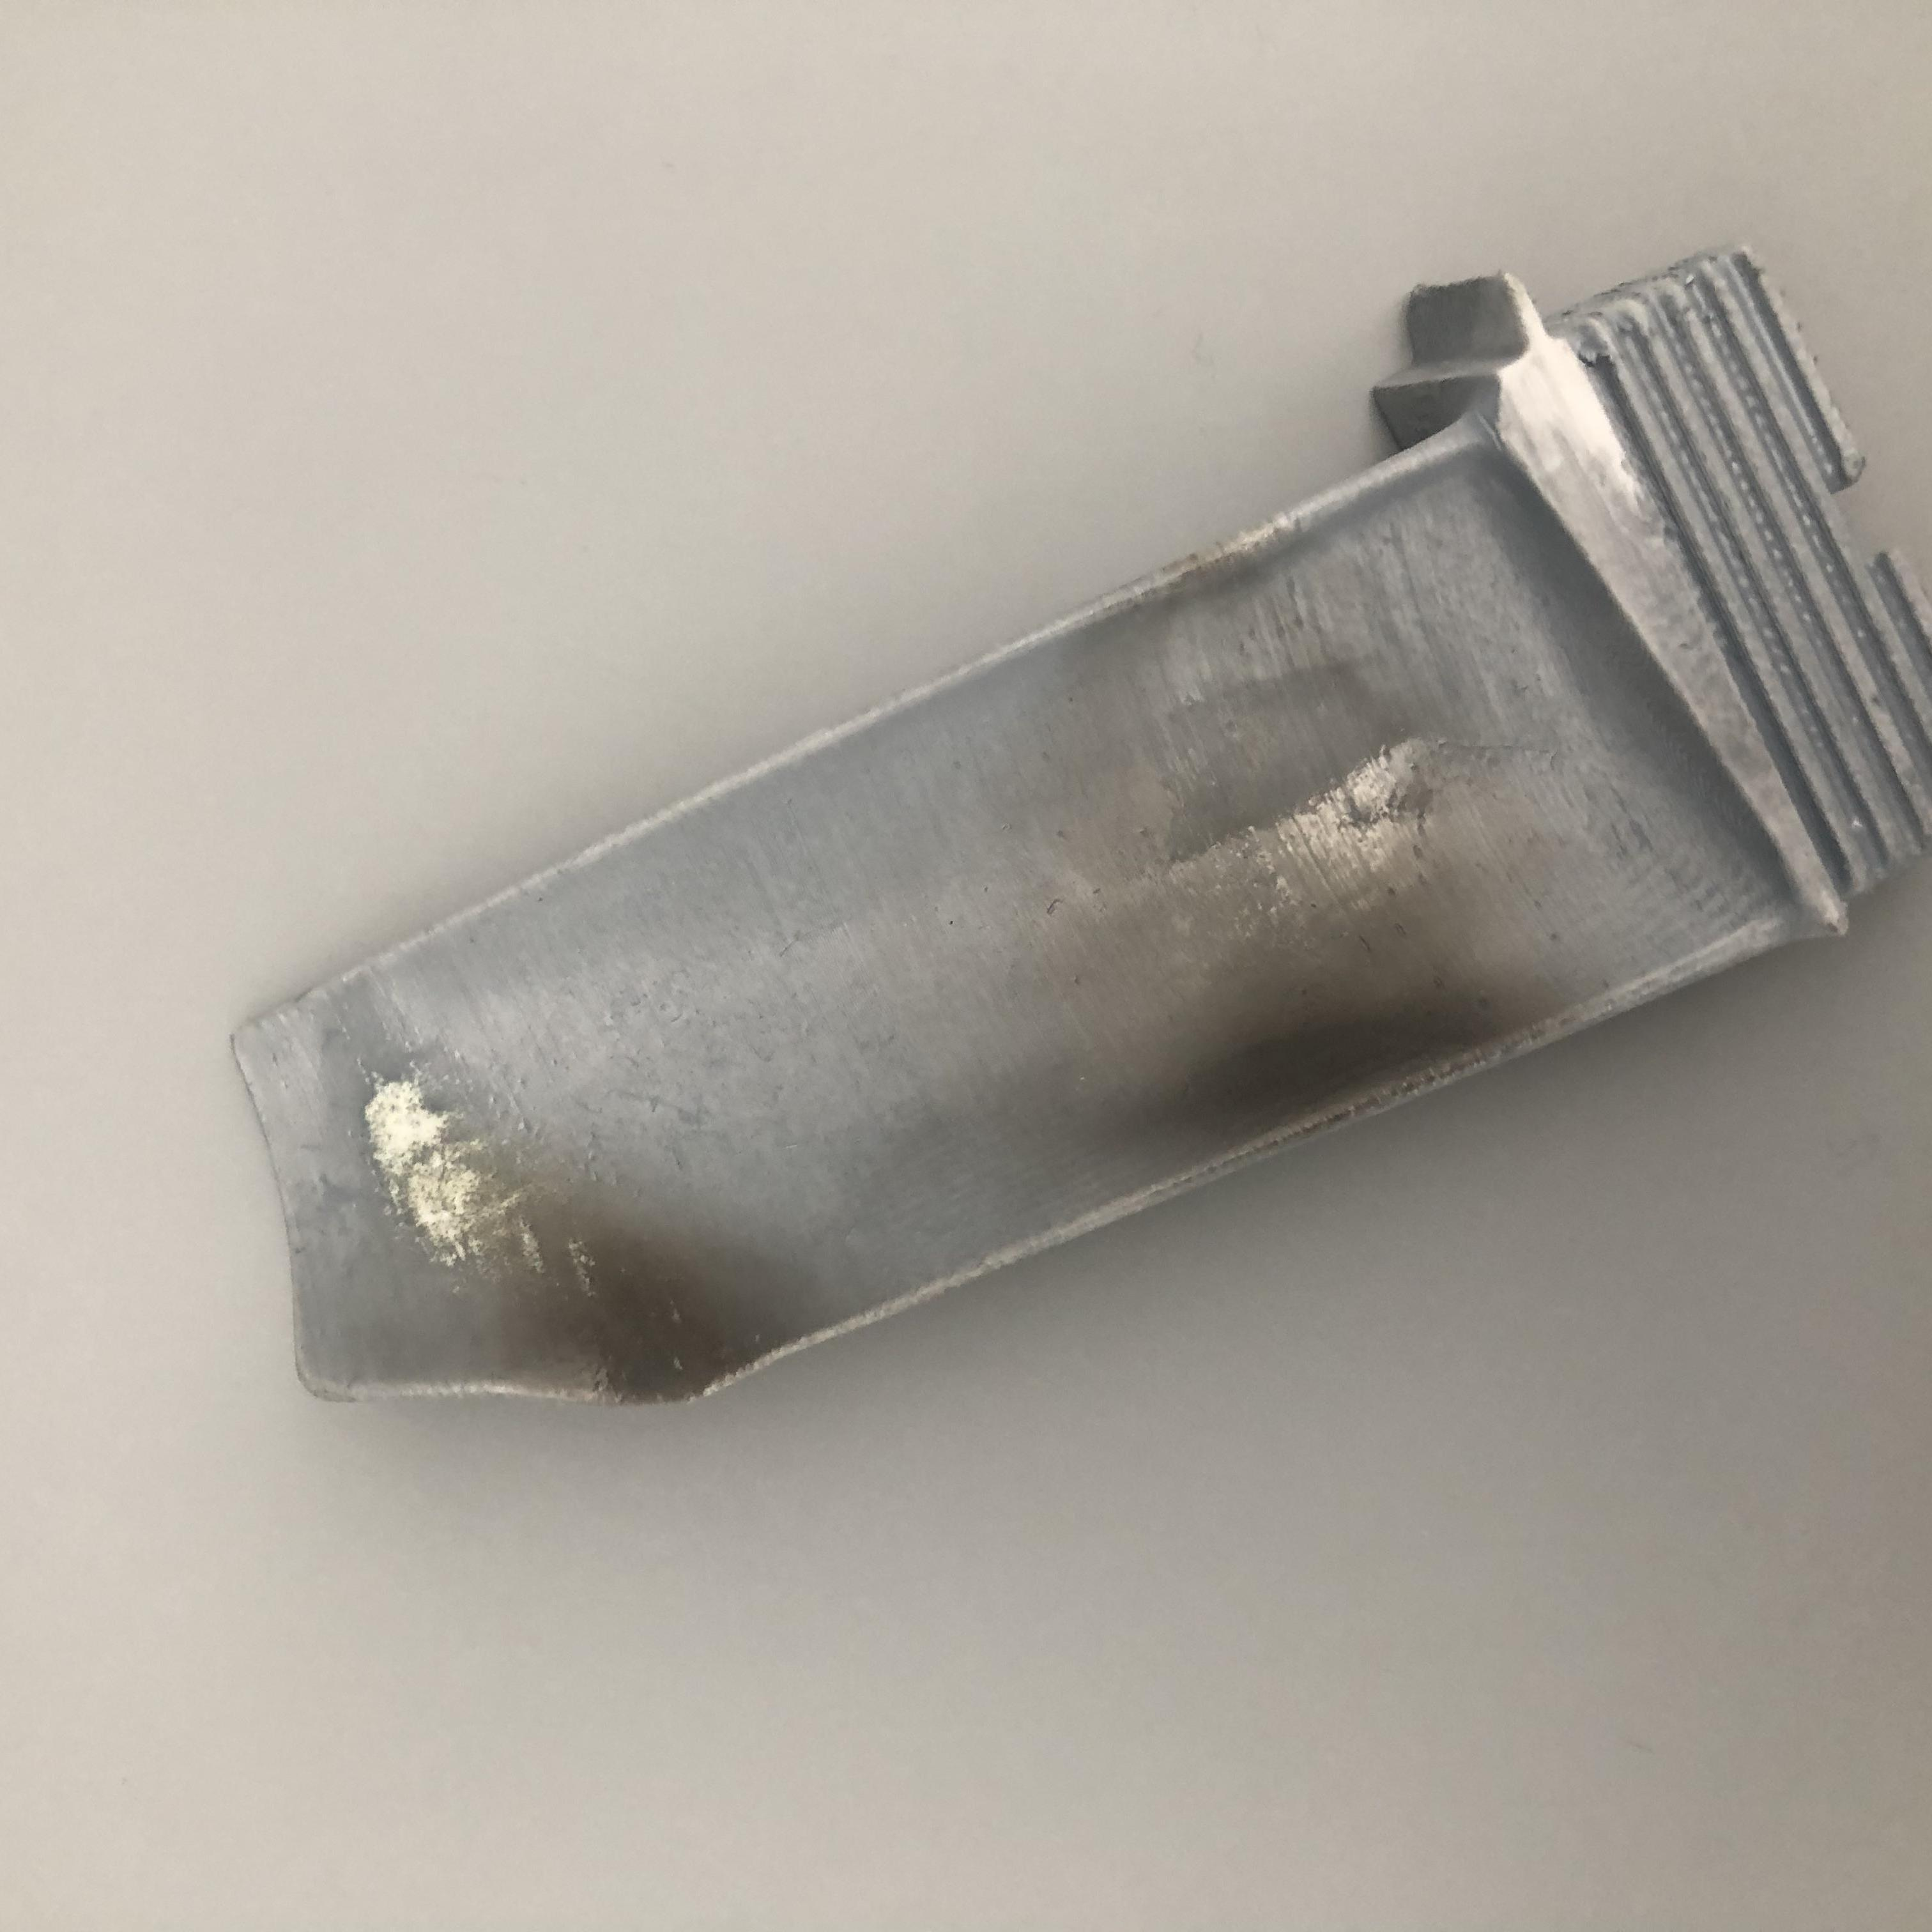ablation: (1168, 906, 1506, 1086), (513, 1196, 794, 1376)
